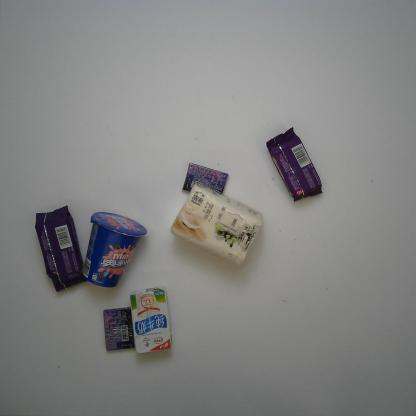Dessert: (82, 210, 148, 289), (34, 204, 88, 294), (264, 126, 324, 203)
Gum: (181, 160, 230, 196), (101, 306, 136, 352)
Milk: (128, 288, 174, 357)
Tissue: (168, 182, 265, 266)
